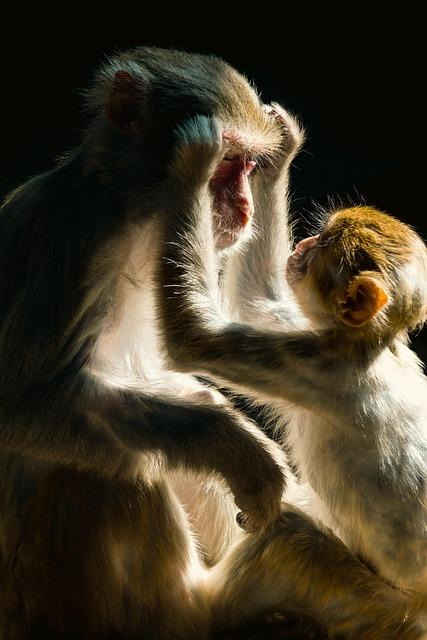Non_Gorille: (7, 30, 427, 640)
